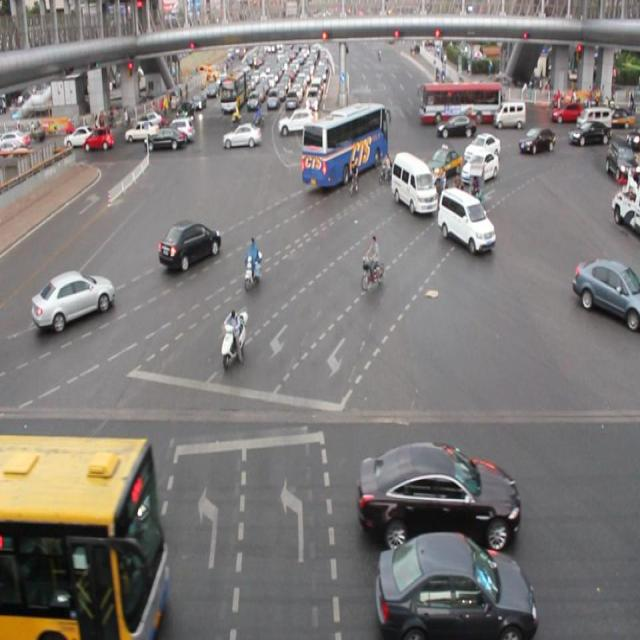car: (357, 443, 520, 551), (374, 532, 537, 640), (572, 255, 640, 332), (30, 270, 115, 328), (158, 218, 222, 271), (425, 142, 460, 180), (461, 150, 498, 182), (519, 125, 556, 154), (222, 123, 261, 150), (146, 126, 187, 151), (342, 116, 380, 142), (569, 118, 607, 144), (464, 130, 499, 158)
truck: (437, 184, 493, 252), (388, 148, 436, 217)
van: (1, 431, 169, 640), (302, 103, 389, 190)
